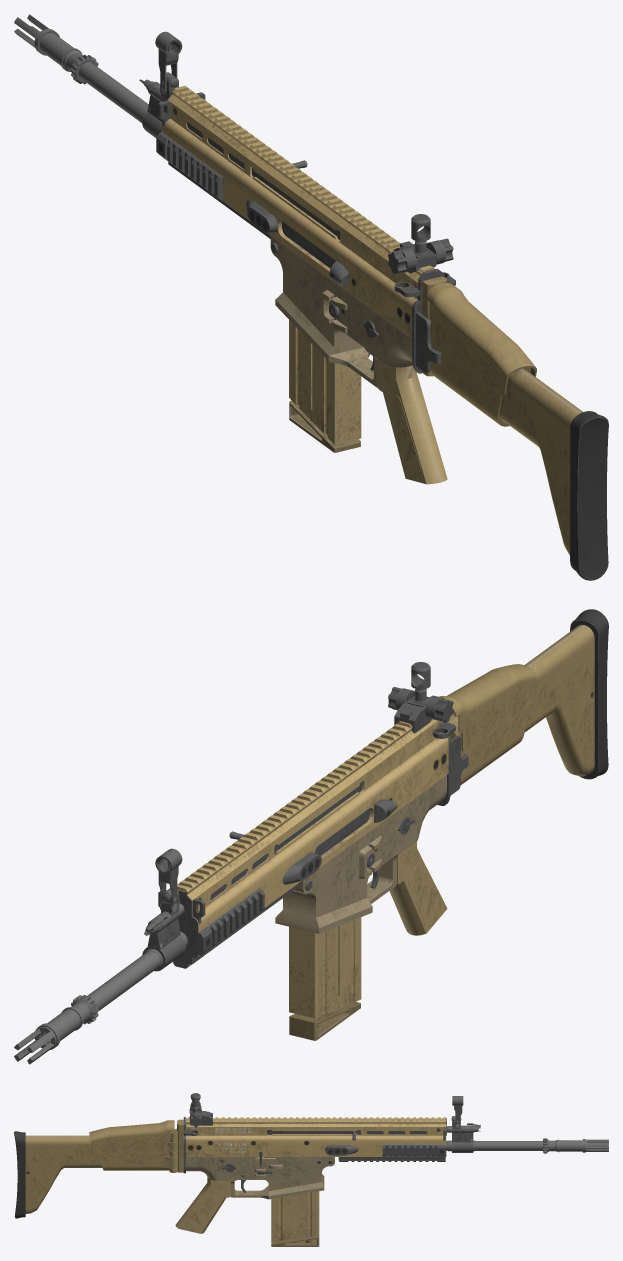
The model's file is w_scar.glb.
The picture shows the model from 3 angles, top to bottom: view 1: azimuth 30°, elevation 25°; view 2: azimuth 150°, elevation 25°; view 3: azimuth 270°, elevation 25°; orthographic projection. The views are drawn at different scales.
Visible parts, largest first — view 1: body, mag; view 2: body, mag; view 3: body, mag.
Part boxes in pixels (x1=…): body: x1=14, y1=14, x2=608, y2=580; mag: x1=275, y1=292, x2=361, y2=444; body: x1=14, y1=609, x2=608, y2=1064; mag: x1=316, y1=878, x2=372, y2=1028; body: x1=14, y1=1093, x2=608, y2=1246; mag: x1=268, y1=1182, x2=324, y2=1242.
Size of the model in its own units: 0.0645 by 0.2673 by 0.97.
2 materials, 2 textured.
